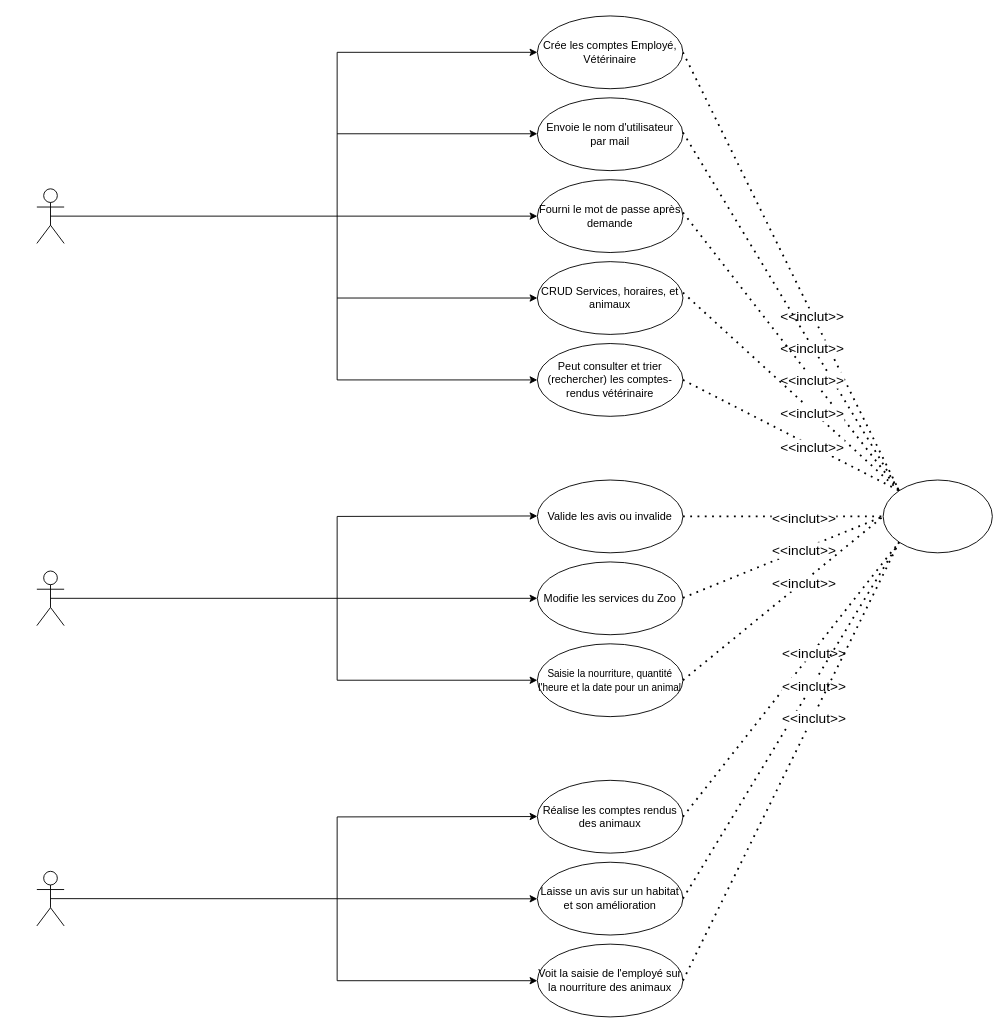
Some shapes in this 1008 by 1033 pixel diagram are drawn without their labels. The centre of each missing label's shape, as x and y in pixels:
Administrateur: (x=50, y=215)
Employé: (x=50, y=598)
Se Connecter: (x=937, y=516)
Vétérinaire: (x=50, y=898)
